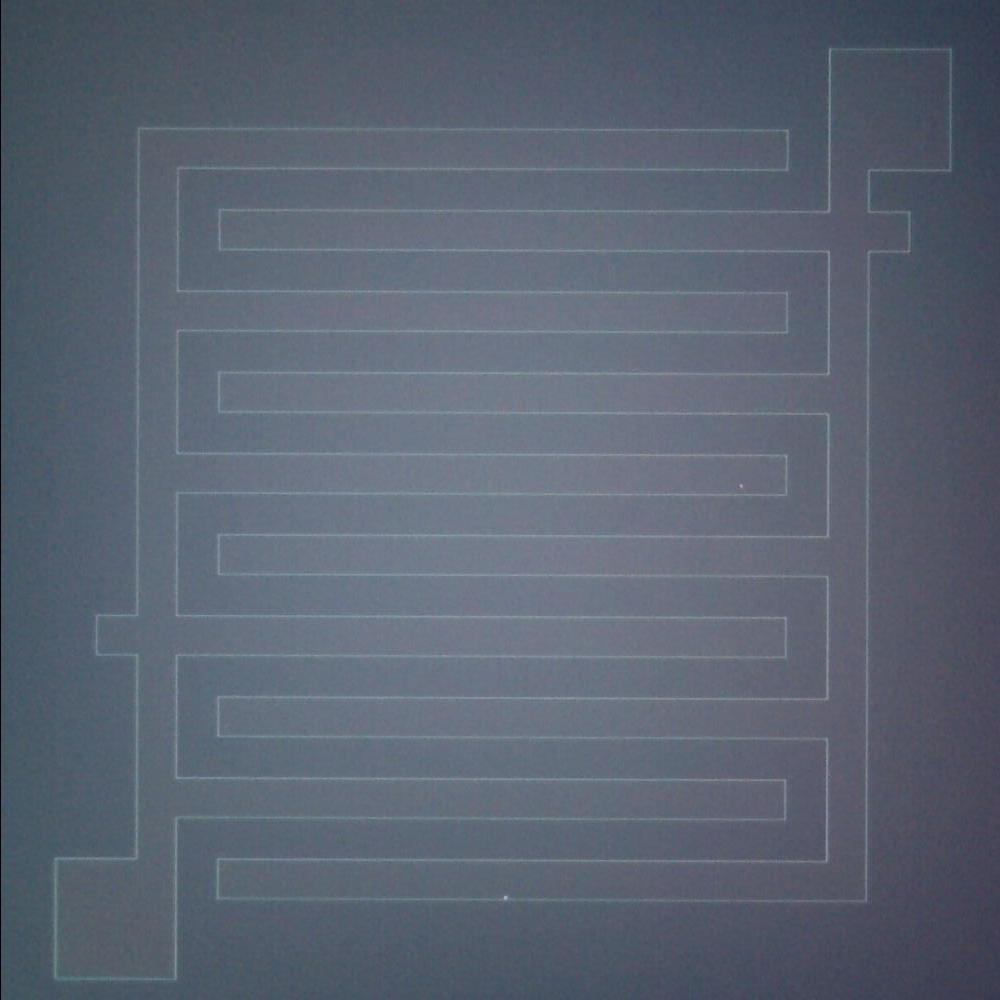budge circuit: (856, 200, 924, 268), (82, 600, 148, 668)
dot: (490, 886, 522, 908)
